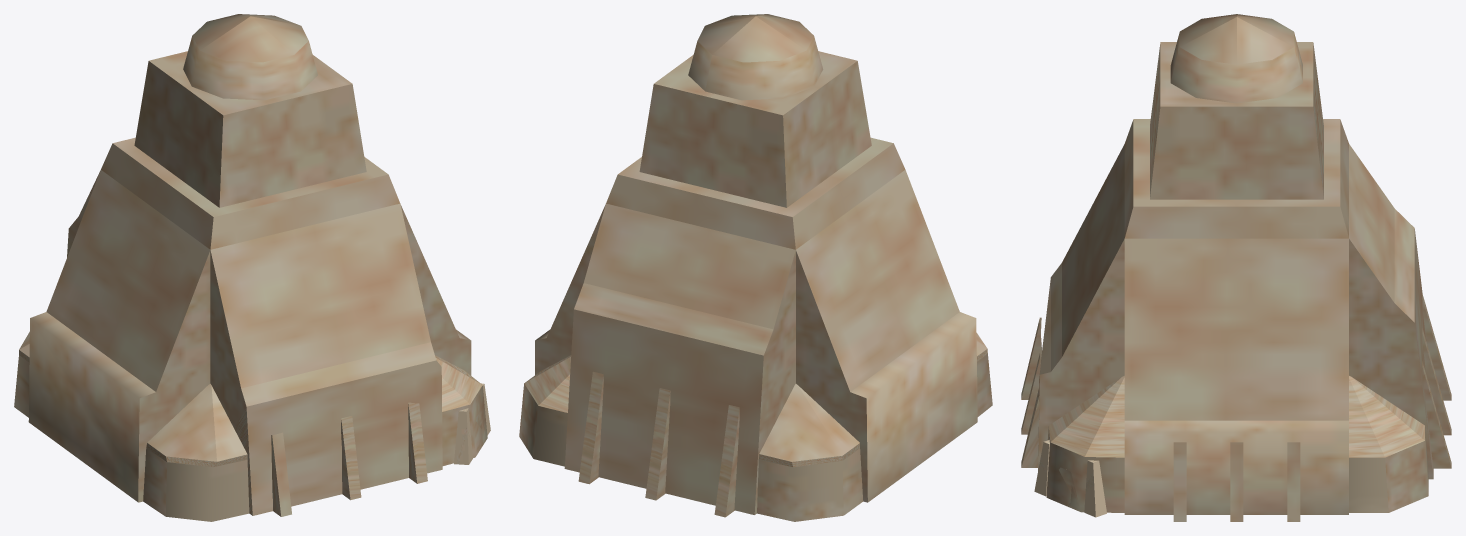
The model's file is thm_tato_imprv_building_s04_r0_mesh_l2.fbx.
3 renders of one model, left to right at view 1: azimuth 30°, elevation 25°; view 2: azimuth 150°, elevation 25°; view 3: azimuth 270°, elevation 25°, orthographic. The views are drawn at different scales.
Parts seen in each view (by area): view 1: mesh_node; view 2: mesh_node; view 3: mesh_node.
Boxes of the visible parts, x1,y1,x2,y2 form: mesh_node: [14, 14, 490, 521]; mesh_node: [519, 14, 992, 521]; mesh_node: [1021, 14, 1451, 521].
Bounding box in the file's own units: 36.11 × 40.37 × 37.88.
